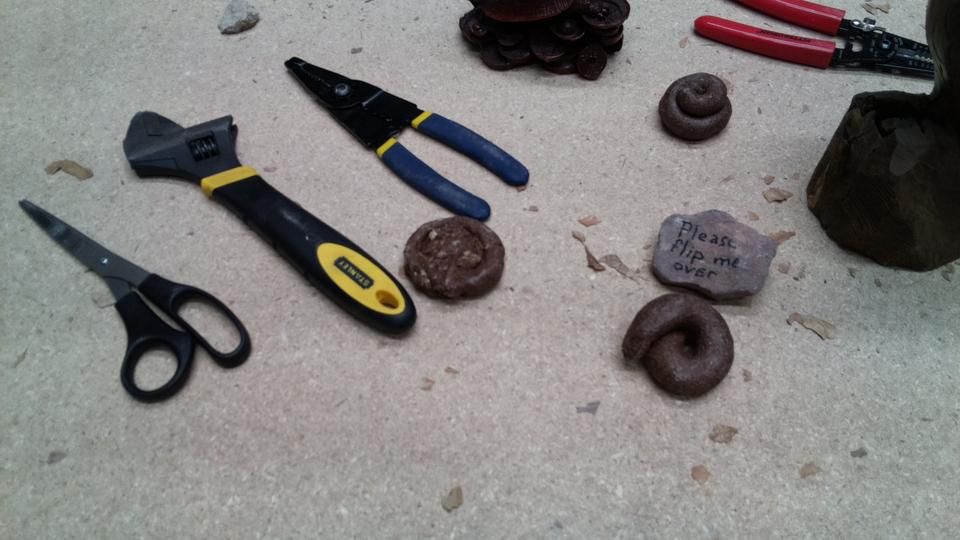poop: (618, 288, 737, 405), (402, 211, 510, 305), (655, 70, 736, 147)
